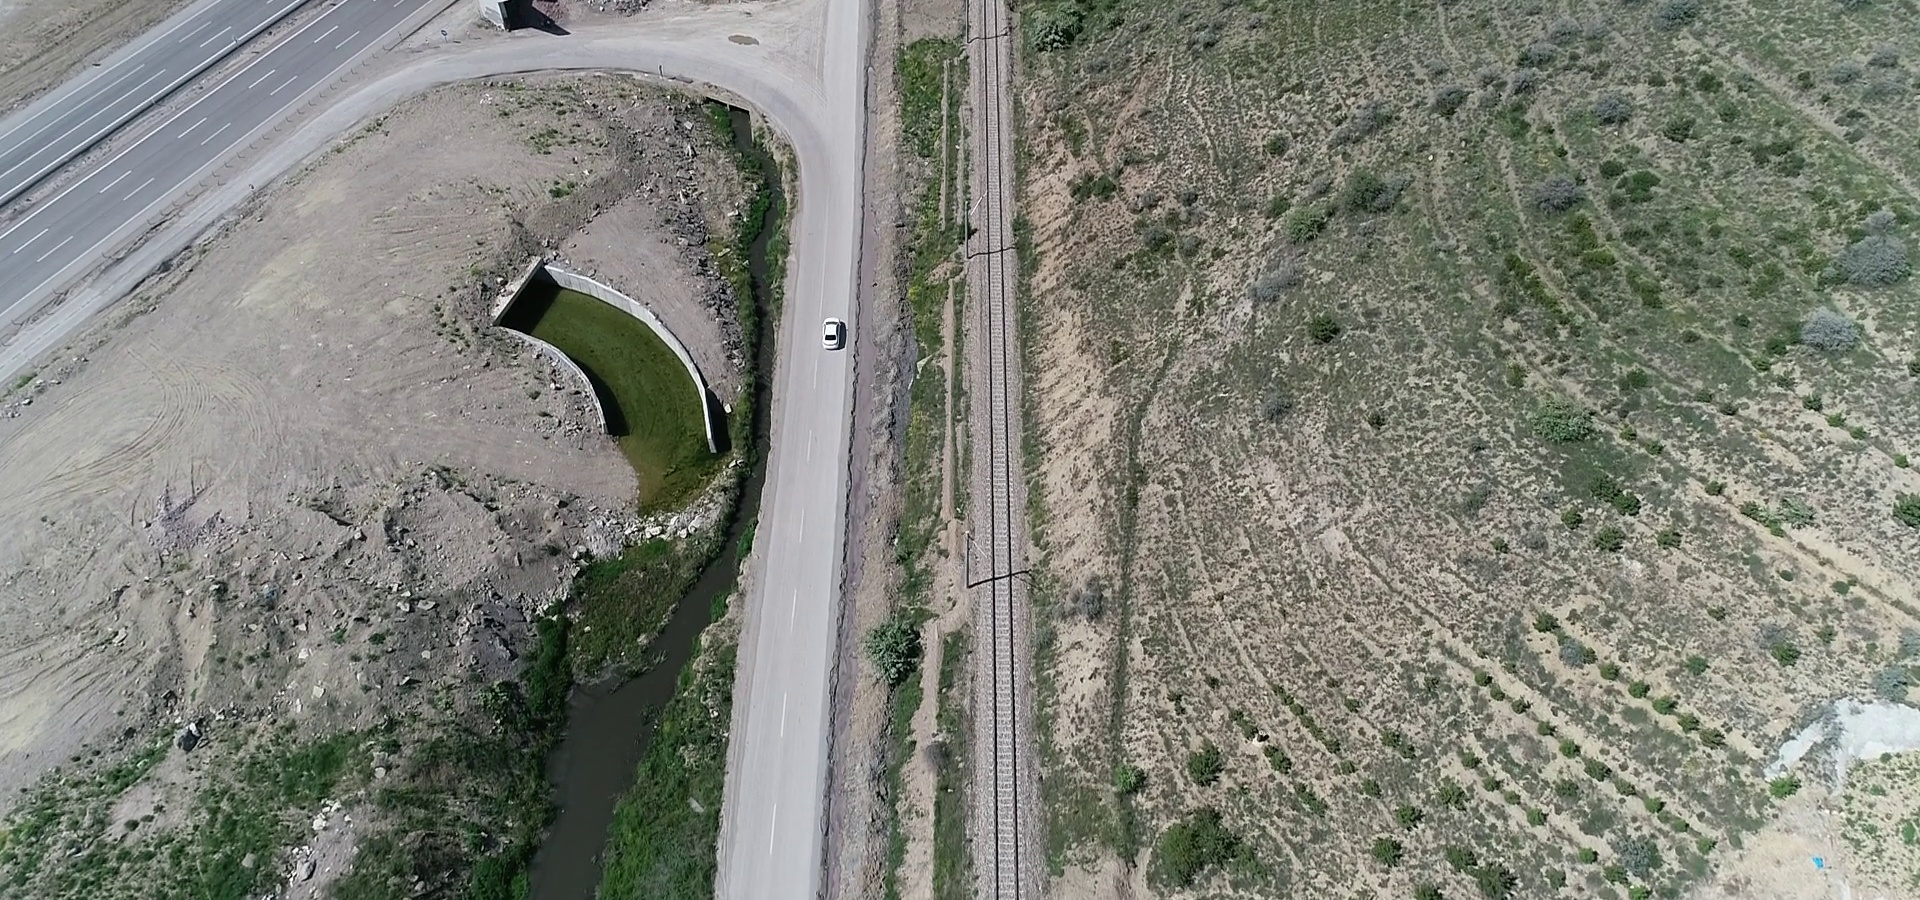araba: (816, 315, 844, 358)
